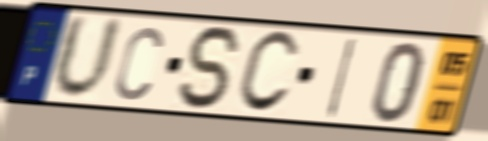0: (367, 39, 429, 126)
C: (233, 28, 302, 117), (112, 23, 166, 103)
I: (322, 35, 361, 120)
S: (177, 23, 246, 113)
U: (49, 11, 127, 104)
